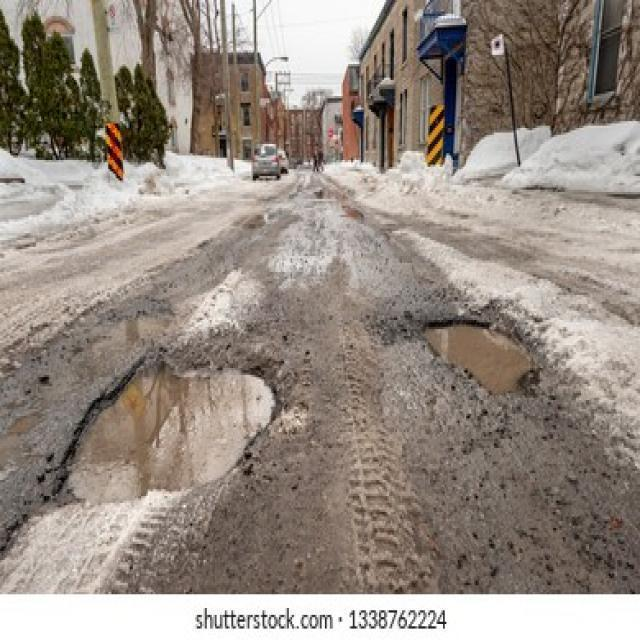pothole: (58, 348, 281, 506), (419, 318, 539, 398)
